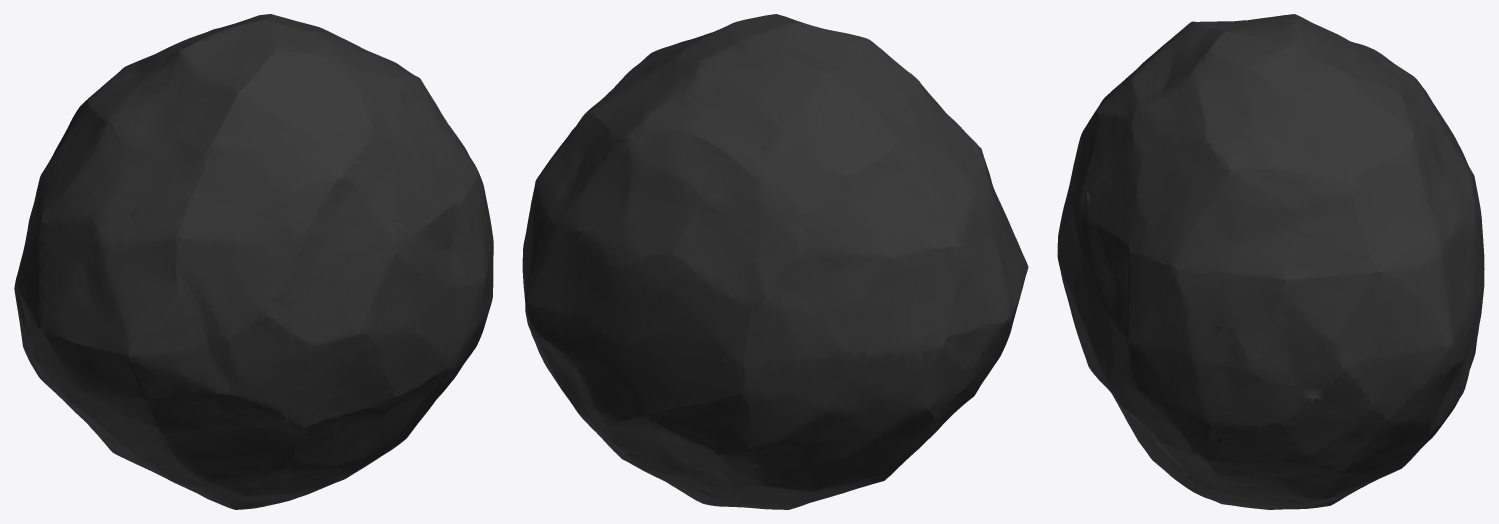
Rendered from pill_waste.glb.
3 views of the same model, side by side, from view 1: azimuth 30°, elevation 25°; view 2: azimuth 150°, elevation 25°; view 3: azimuth 270°, elevation 25° (orthographic).
Visible parts, largest first — view 1: pill_heal; view 2: pill_heal; view 3: pill_heal.
Boxes of the visible parts, box(x1,y1,x2,y2) form: pill_heal: box(14, 14, 493, 509); pill_heal: box(522, 14, 1028, 509); pill_heal: box(1057, 14, 1484, 509).
Bounding box in the file's own units: 0.1194 × 0.12 × 0.0998.
Materials: 1 (1 with a texture image).
